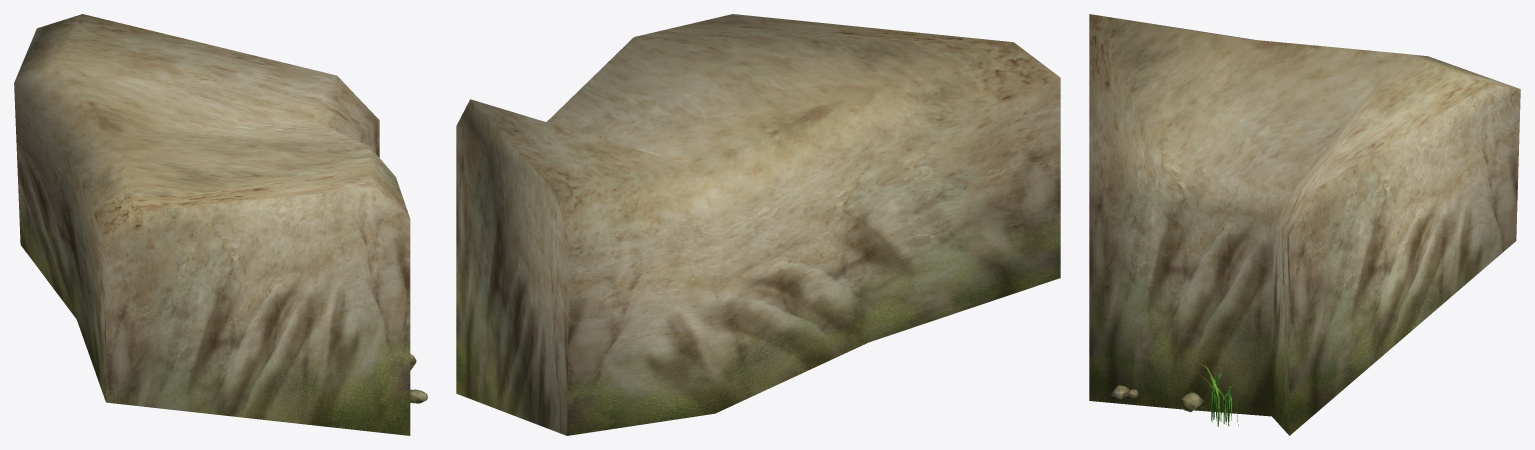
The model's file is a_SWTsetB03.glb.
3 renders of one model, left to right at view 1: azimuth 30°, elevation 25°; view 2: azimuth 150°, elevation 25°; view 3: azimuth 270°, elevation 25°, orthographic. The views are drawn at different scales.
Visible parts, largest first — view 1: a_SWTsetB03; view 2: a_SWTsetB03; view 3: a_SWTsetB03.
Part boxes in pixels (x1=…): a_SWTsetB03: x1=14, y1=14, x2=427, y2=435; a_SWTsetB03: x1=456, y1=14, x2=1060, y2=435; a_SWTsetB03: x1=1089, y1=14, x2=1520, y2=435.
Bounding box in the file's own units: 5.03 × 3.72 × 5.33.
2 materials, 2 textured.
